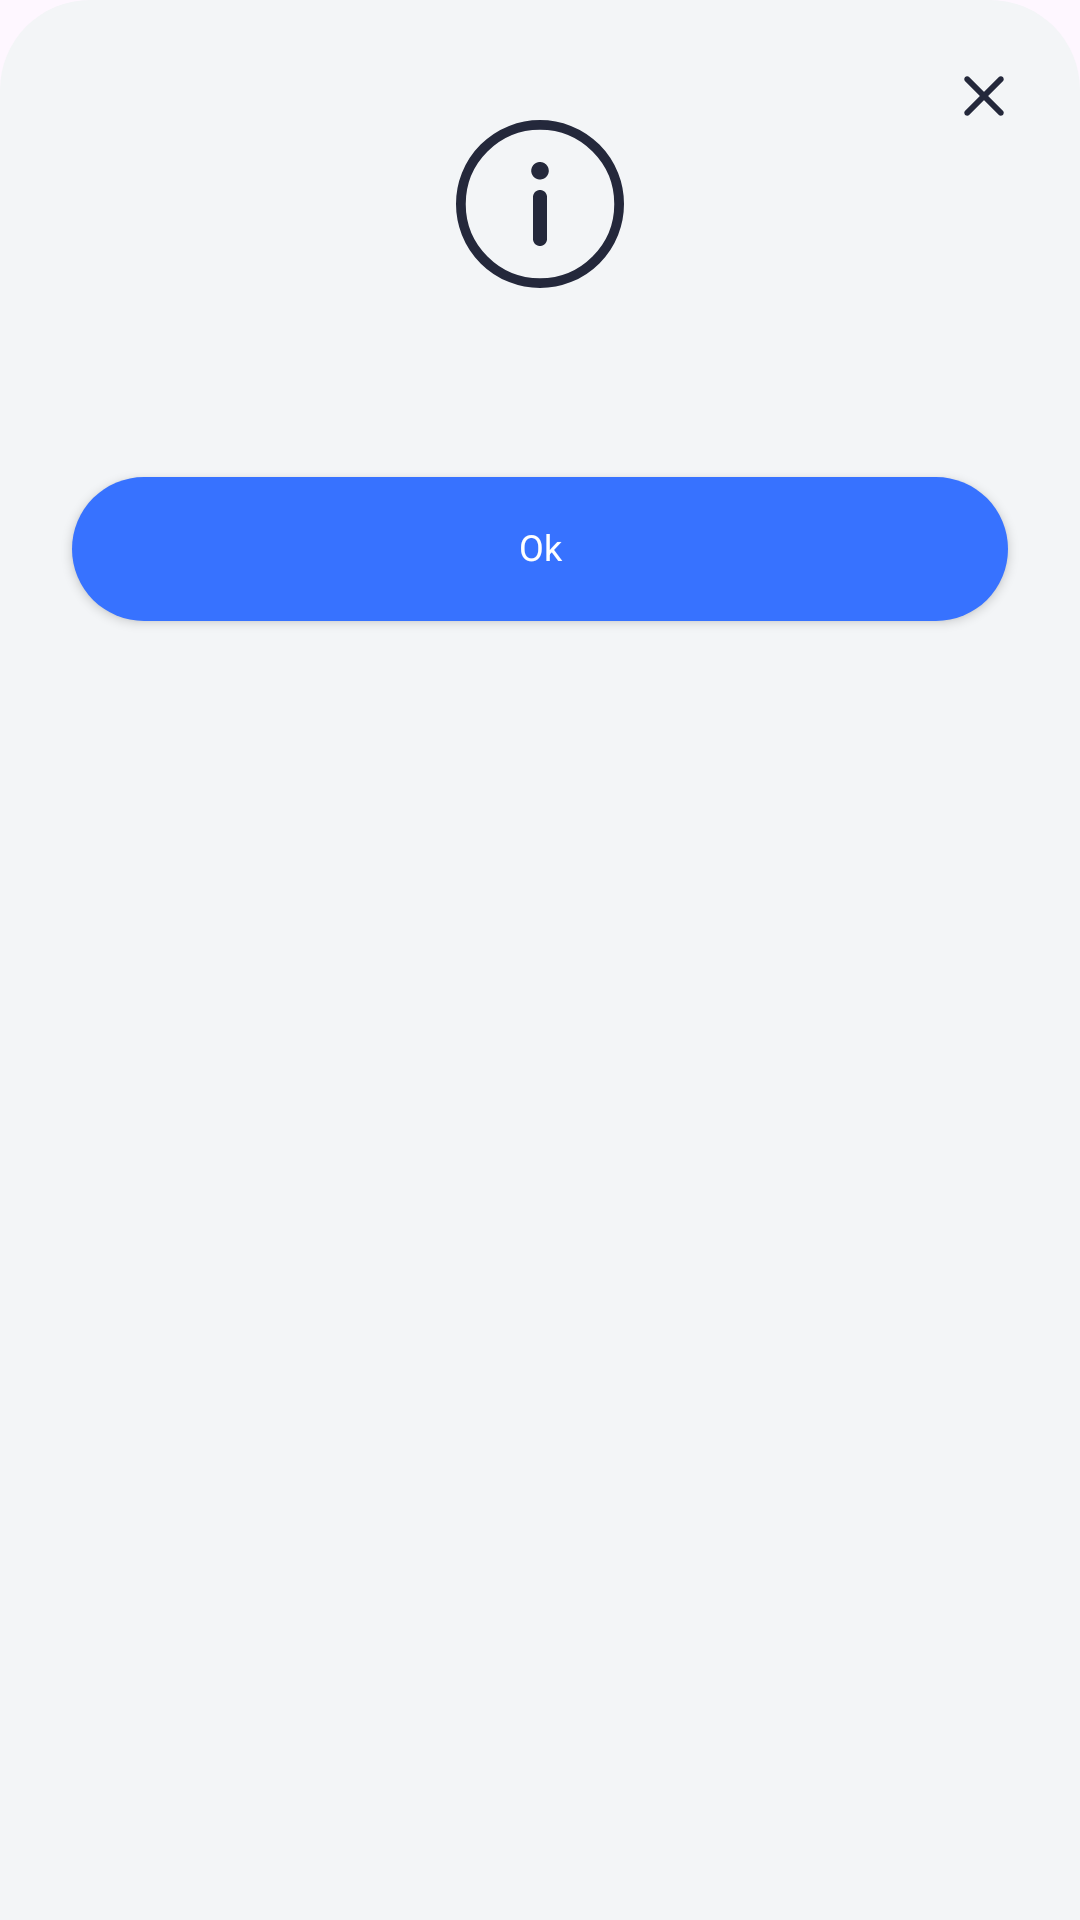

Icons on this 1080 × 1920 Android screen, each with its box as rect(x1, y1, x2, y2):
close: rect(964, 76, 1004, 116)
info: rect(456, 120, 624, 288)
